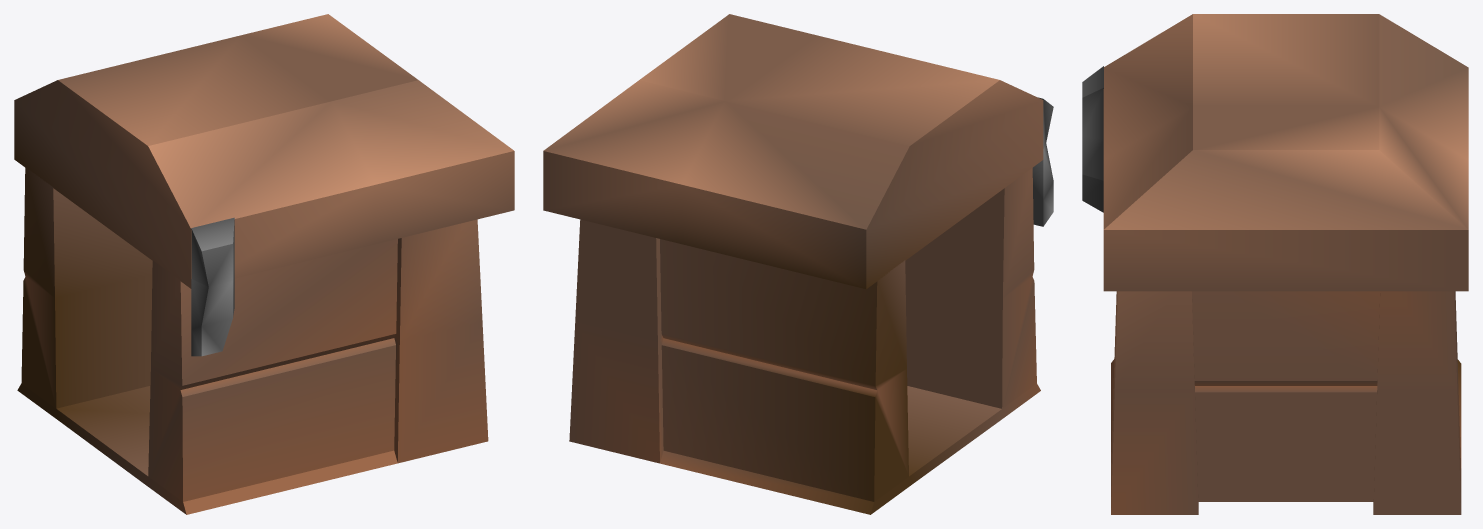
Rendered from ChestBaseLeft.fbx.
The picture shows the model from 3 angles, left to right: view 1: azimuth 30°, elevation 25°; view 2: azimuth 150°, elevation 25°; view 3: azimuth 270°, elevation 25°; orthographic projection. The views are drawn at different scales.
Visible parts, largest first — view 1: Chest; view 2: Chest; view 3: Chest.
Part boxes in pixels (x1,y1,x2,y2): Chest: [14, 14, 514, 514]; Chest: [543, 14, 1053, 514]; Chest: [1082, 14, 1468, 514].
Size of the model in its own units: 100 by 100 by 100.
